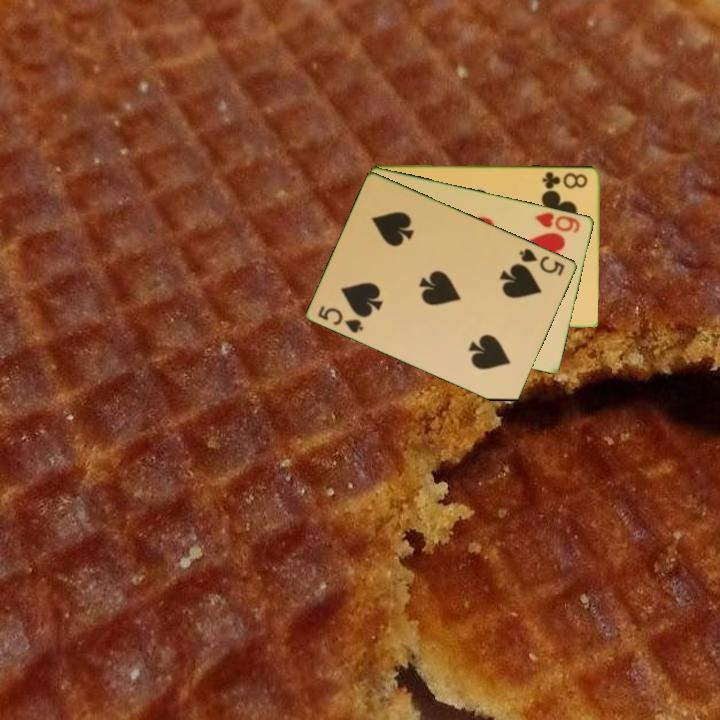5s: (314, 302, 367, 336), (516, 245, 568, 279)
6h: (532, 208, 583, 236)
8c: (539, 168, 591, 191)
